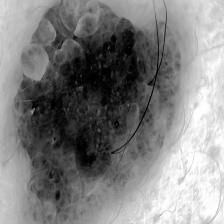Benign Marking or Mole: (7, 0, 184, 224)
